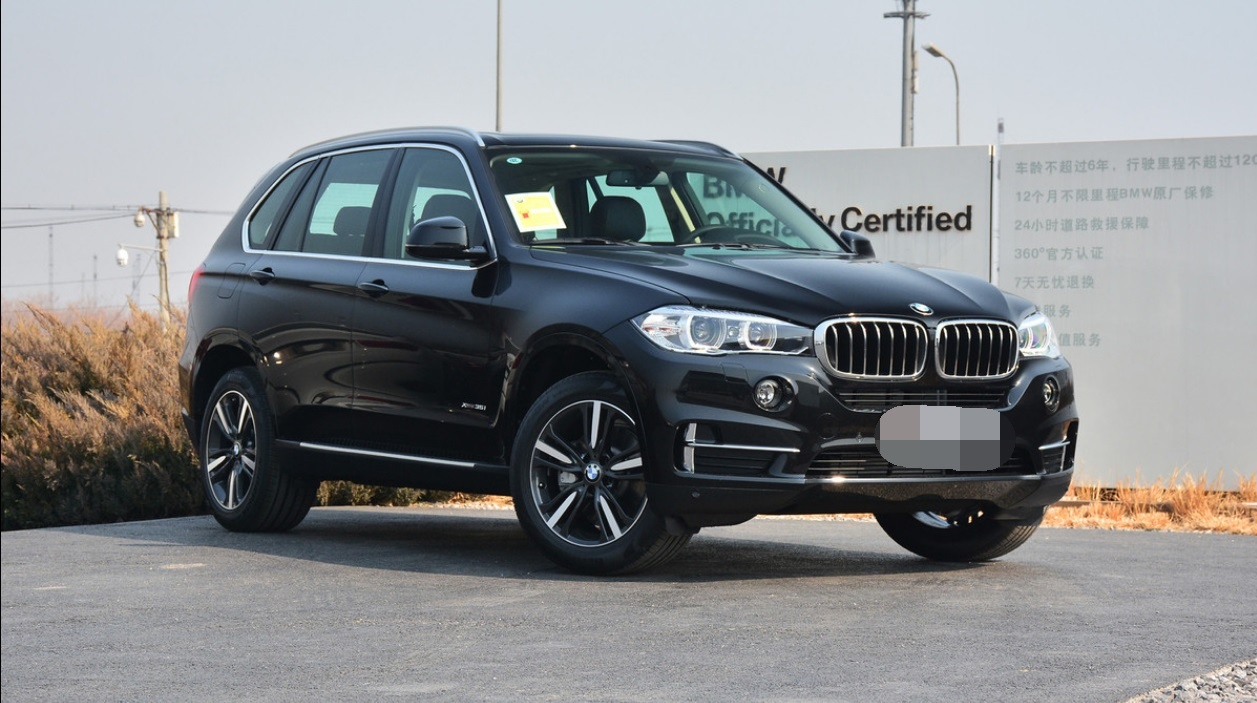SUV: (160, 110, 1093, 593)
